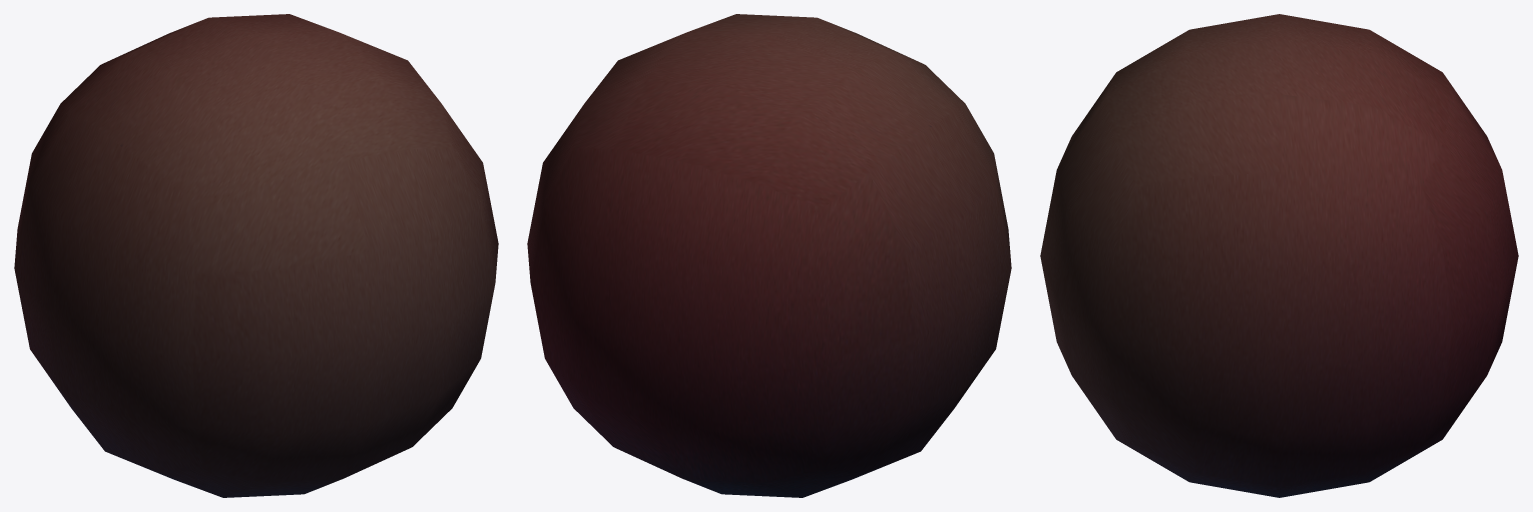
File: pelota.fbx
3 views of the same model, side by side, from view 1: azimuth 30°, elevation 25°; view 2: azimuth 150°, elevation 25°; view 3: azimuth 270°, elevation 25° (orthographic).
Parts seen in each view (by area): view 1: Cube.002; view 2: Cube.002; view 3: Cube.002.
Part boxes in pixels (<box>): Cube.002: <box>14,14,498,497</box>; Cube.002: <box>527,14,1011,497</box>; Cube.002: <box>1040,14,1518,497</box>.
Size of the model in its own units: 71.3 by 71.3 by 71.3.
Materials: 1 (1 with a texture image).
